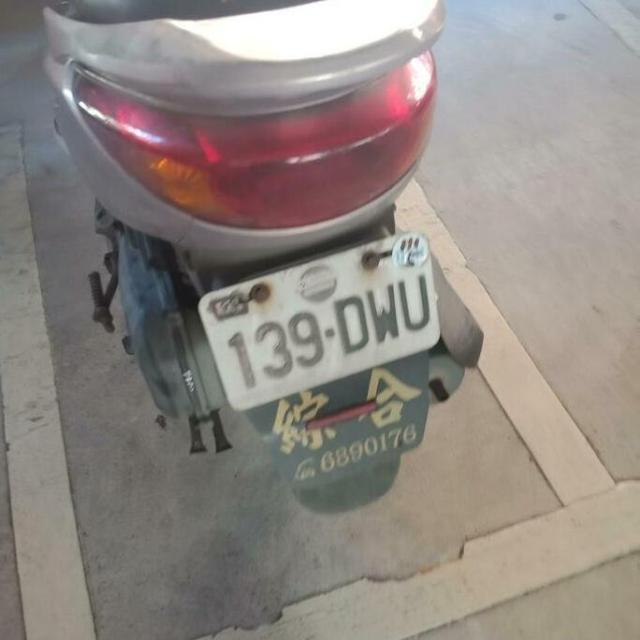W: (178, 212, 458, 426)
